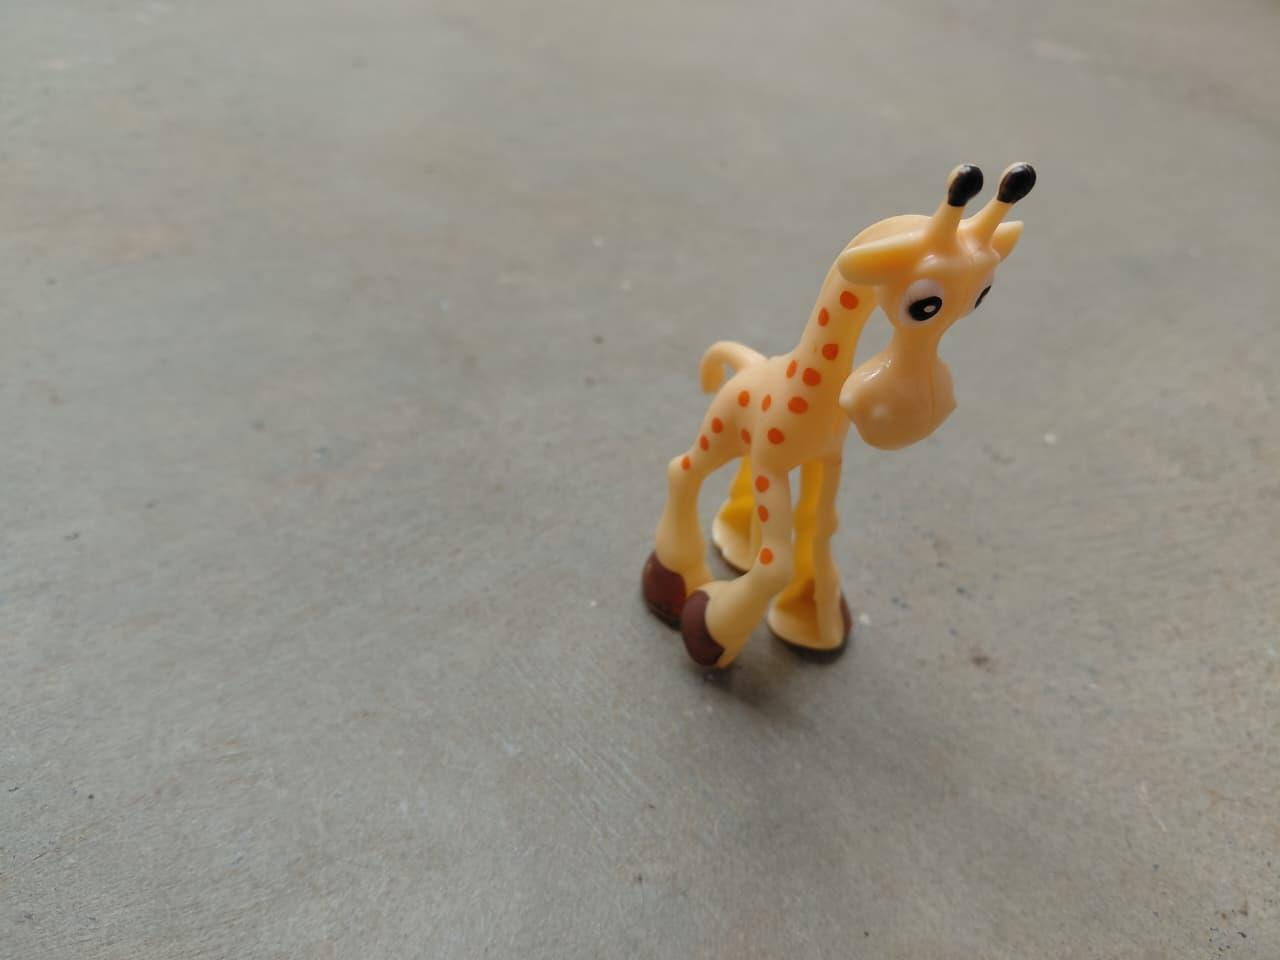giraffe: (640, 146, 1035, 703)
